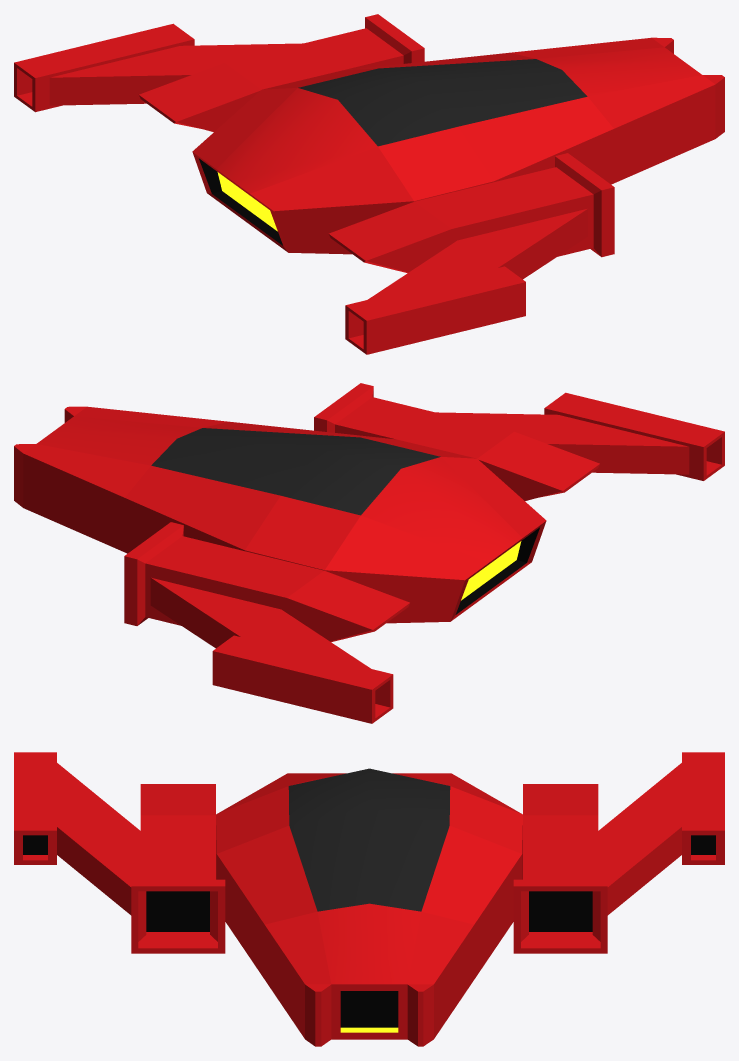
Rendered from GalacticShip.glb.
3 views of the same model, one above another, from view 1: azimuth 30°, elevation 25°; view 2: azimuth 150°, elevation 25°; view 3: azimuth 270°, elevation 25° (orthographic).
Visible parts, largest first — view 1: Cube, Plane; view 2: Cube, Plane; view 3: Cube, Plane.
Boxes of the visible parts, bbox=[...] form: Cube: bbox=[192, 37, 724, 254]; Plane: bbox=[14, 14, 614, 354]; Cube: bbox=[14, 406, 546, 623]; Plane: bbox=[124, 383, 724, 723]; Cube: bbox=[216, 768, 522, 1046]; Plane: bbox=[14, 752, 724, 953].
Size of the model in its own units: 10.27 by 2.06 by 12.37.
